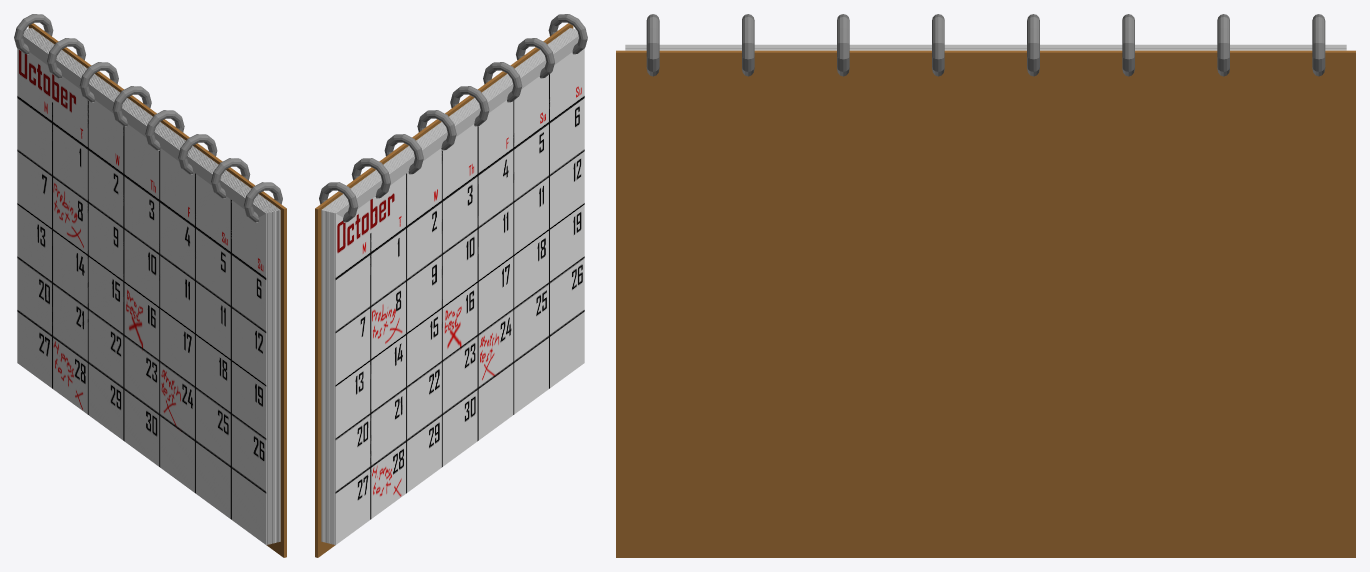
The model's file is Calender4.fbx.
3 renders of one model, left to right at view 1: azimuth 30°, elevation 25°; view 2: azimuth 150°, elevation 25°; view 3: azimuth 270°, elevation 25°, orthographic. The views are drawn at different scales.
Parts seen in each view (by area): view 1: Cube, Torus, Backboard; view 2: Cube, Torus, Backboard; view 3: Backboard, Torus, Cube.
Part boxes in pixels (x1,y1,x2,y2): Cube: [17, 28, 280, 545]; Torus: [14, 14, 282, 222]; Backboard: [28, 23, 286, 557]; Cube: [321, 28, 584, 545]; Torus: [319, 14, 587, 222]; Backboard: [315, 23, 573, 557]; Backboard: [616, 50, 1355, 557]; Torus: [646, 14, 1325, 76]; Cube: [625, 44, 1346, 50].
Size of the model in its own units: 17.71 by 163 by 205.
Materials: 4 (1 with a texture image).
